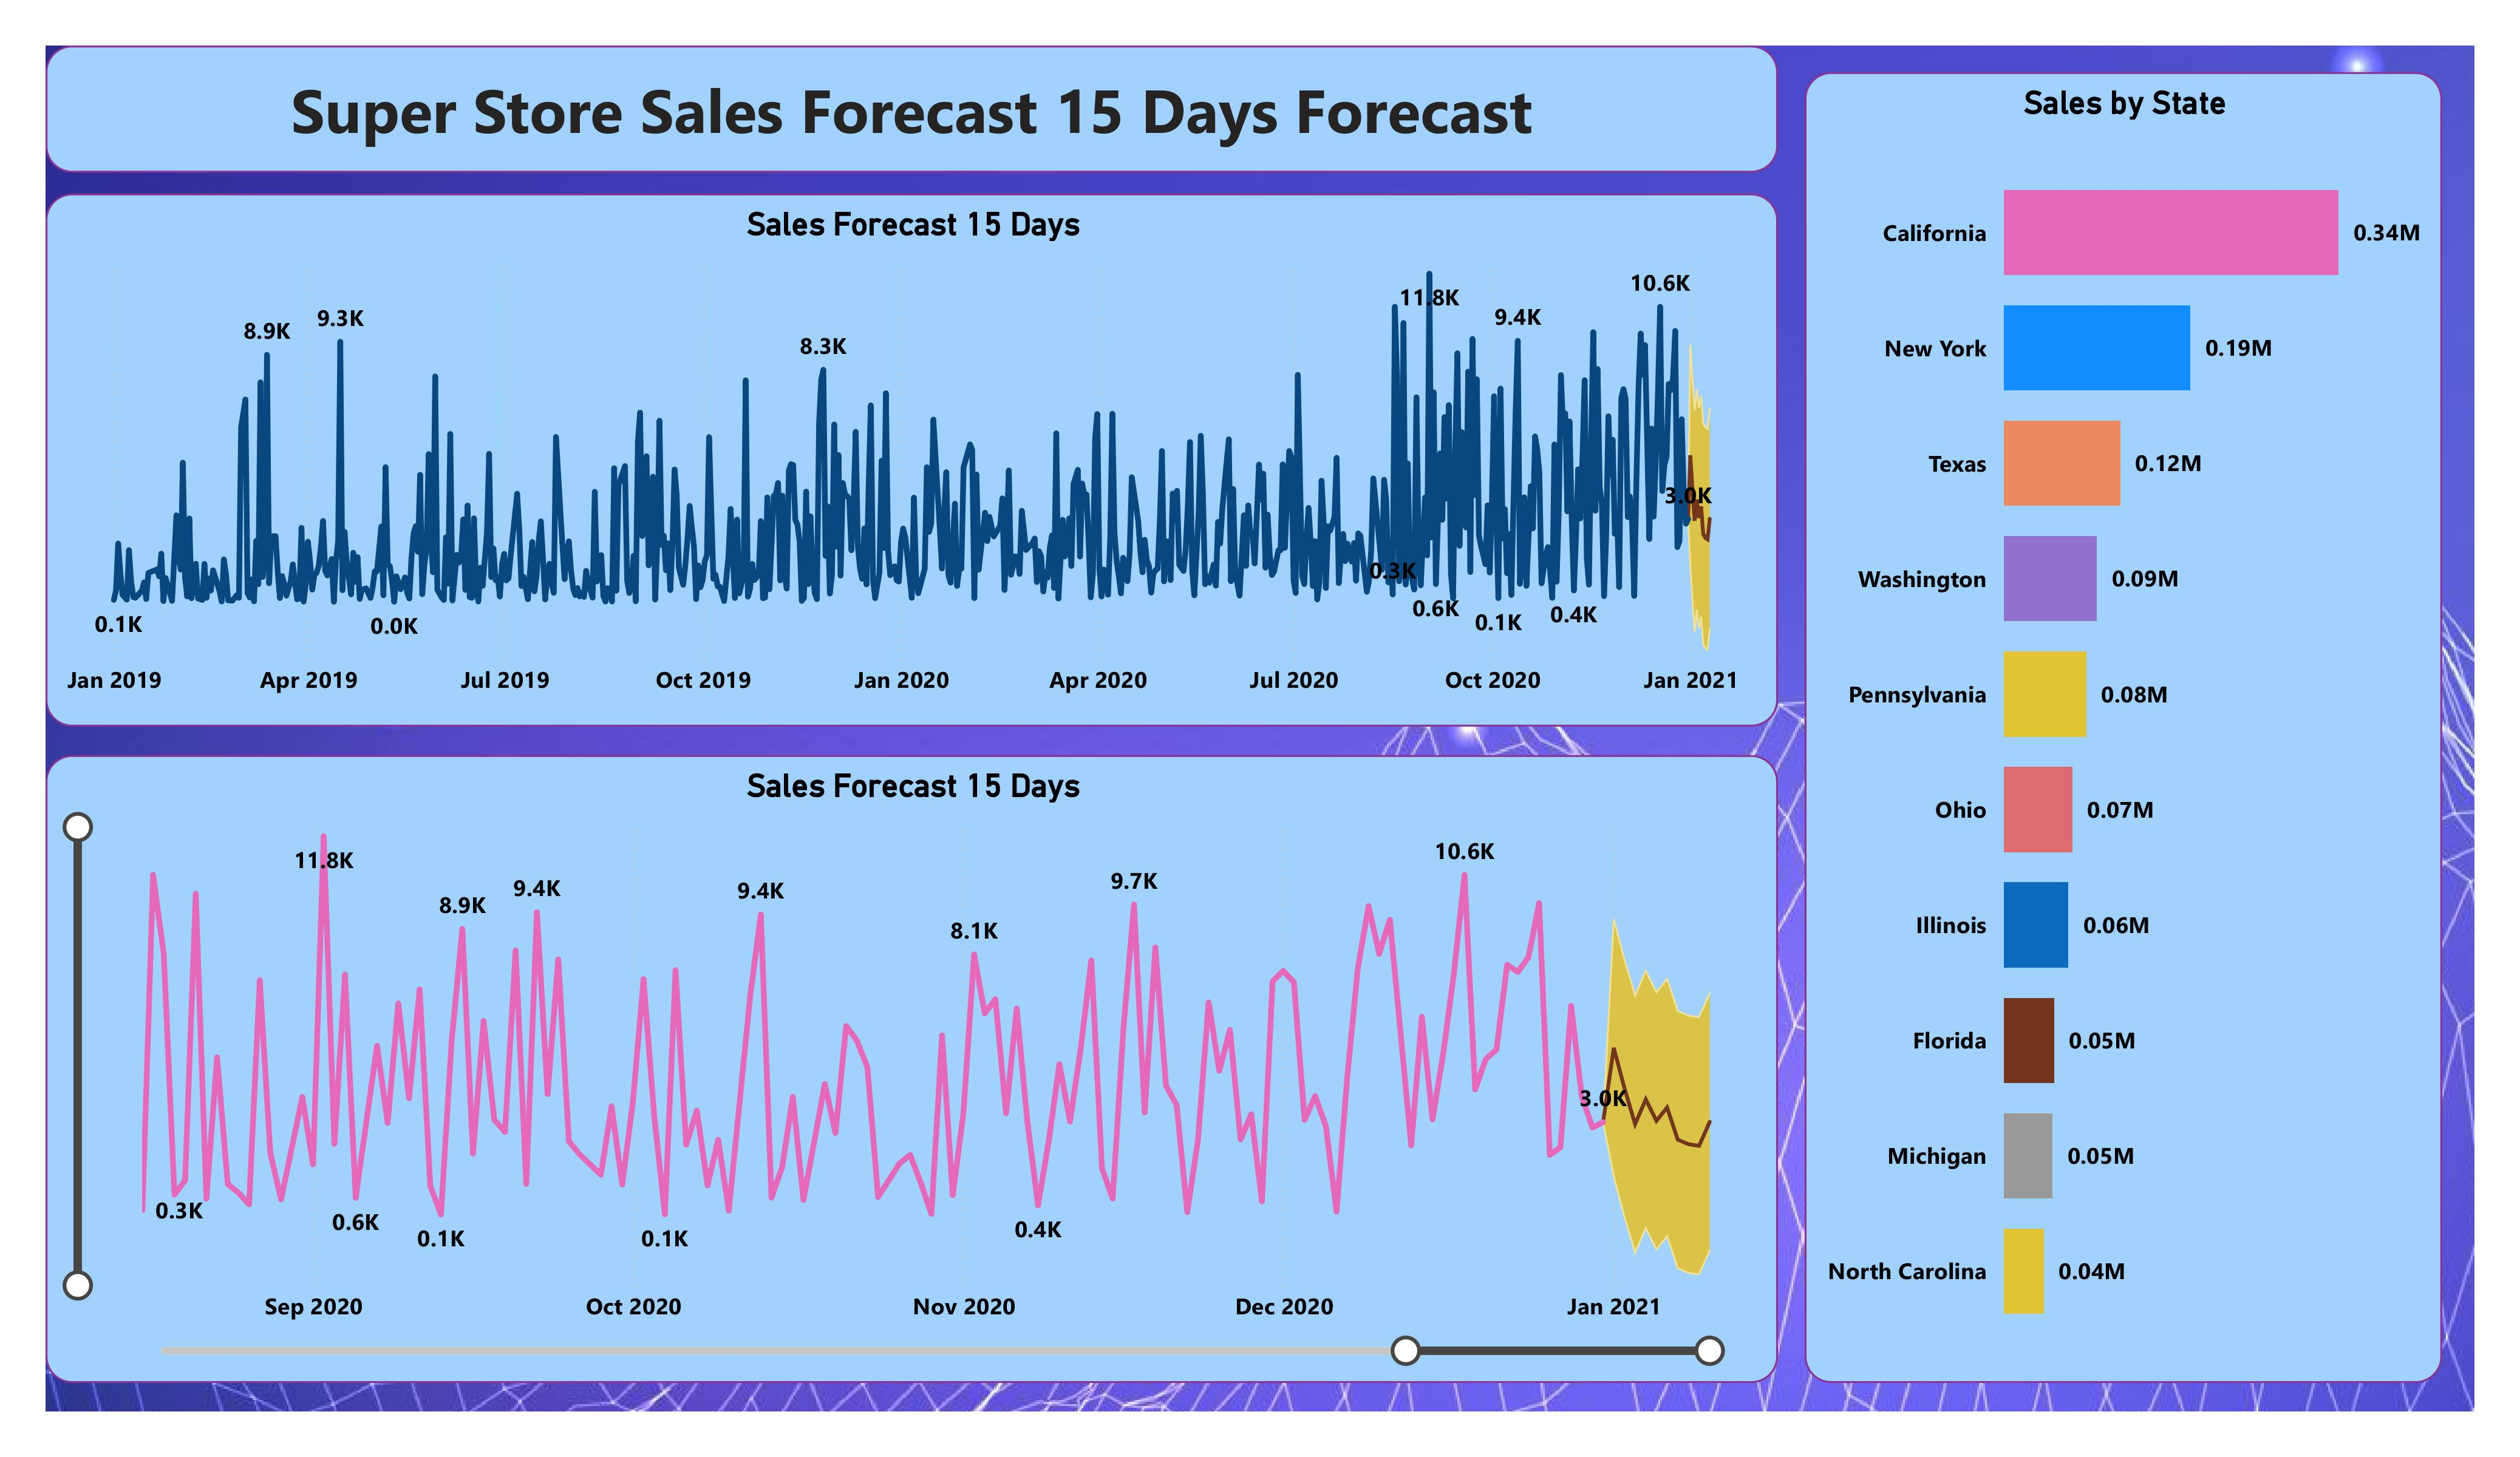

The dashboard page shown, as its layout file describes it:
{"tool":"powerbi","page":{"name":"Page 2","canvas":[1280,720],"ordinal":1},"visuals":[{"type":"lineChart","title":"Sales Forecast 15 Days","fields":{"Y":["Sum(SuperStore Sales DataSet.Sales)"],"Category":["SuperStore Sales DataSet.Order Date"]},"box":[0,78.1,912.8,281.3],"z":0},{"type":"lineChart","title":"Sales Forecast 15 Days","fields":{"Y":["Sum(SuperStore Sales DataSet.Sales)"],"Category":["SuperStore Sales DataSet.Order Date"]},"box":[0,373.6,912.8,331.4],"z":1},{"type":"textbox","box":[0,0,912.8,67.2],"z":2},{"type":"clusteredBarChart","title":"Sales by State","fields":{"Category":["SuperStore Sales DataSet.State"],"Y":["Sum(SuperStore Sales DataSet.Sales)"]},"box":[926.9,14.1,336,690.8],"z":3}]}

Visuals, with their boxes in screenshot pixels (x1, y1, x2, y2):
"Sales Forecast 15 Days" lineChart: (left=7, top=185, right=1779, bottom=730)
"Sales Forecast 15 Days" lineChart: (left=7, top=758, right=1779, bottom=1401)
textbox: (left=7, top=33, right=1779, bottom=163)
"Sales by State" clusteredBarChart: (left=1806, top=60, right=2459, bottom=1401)
